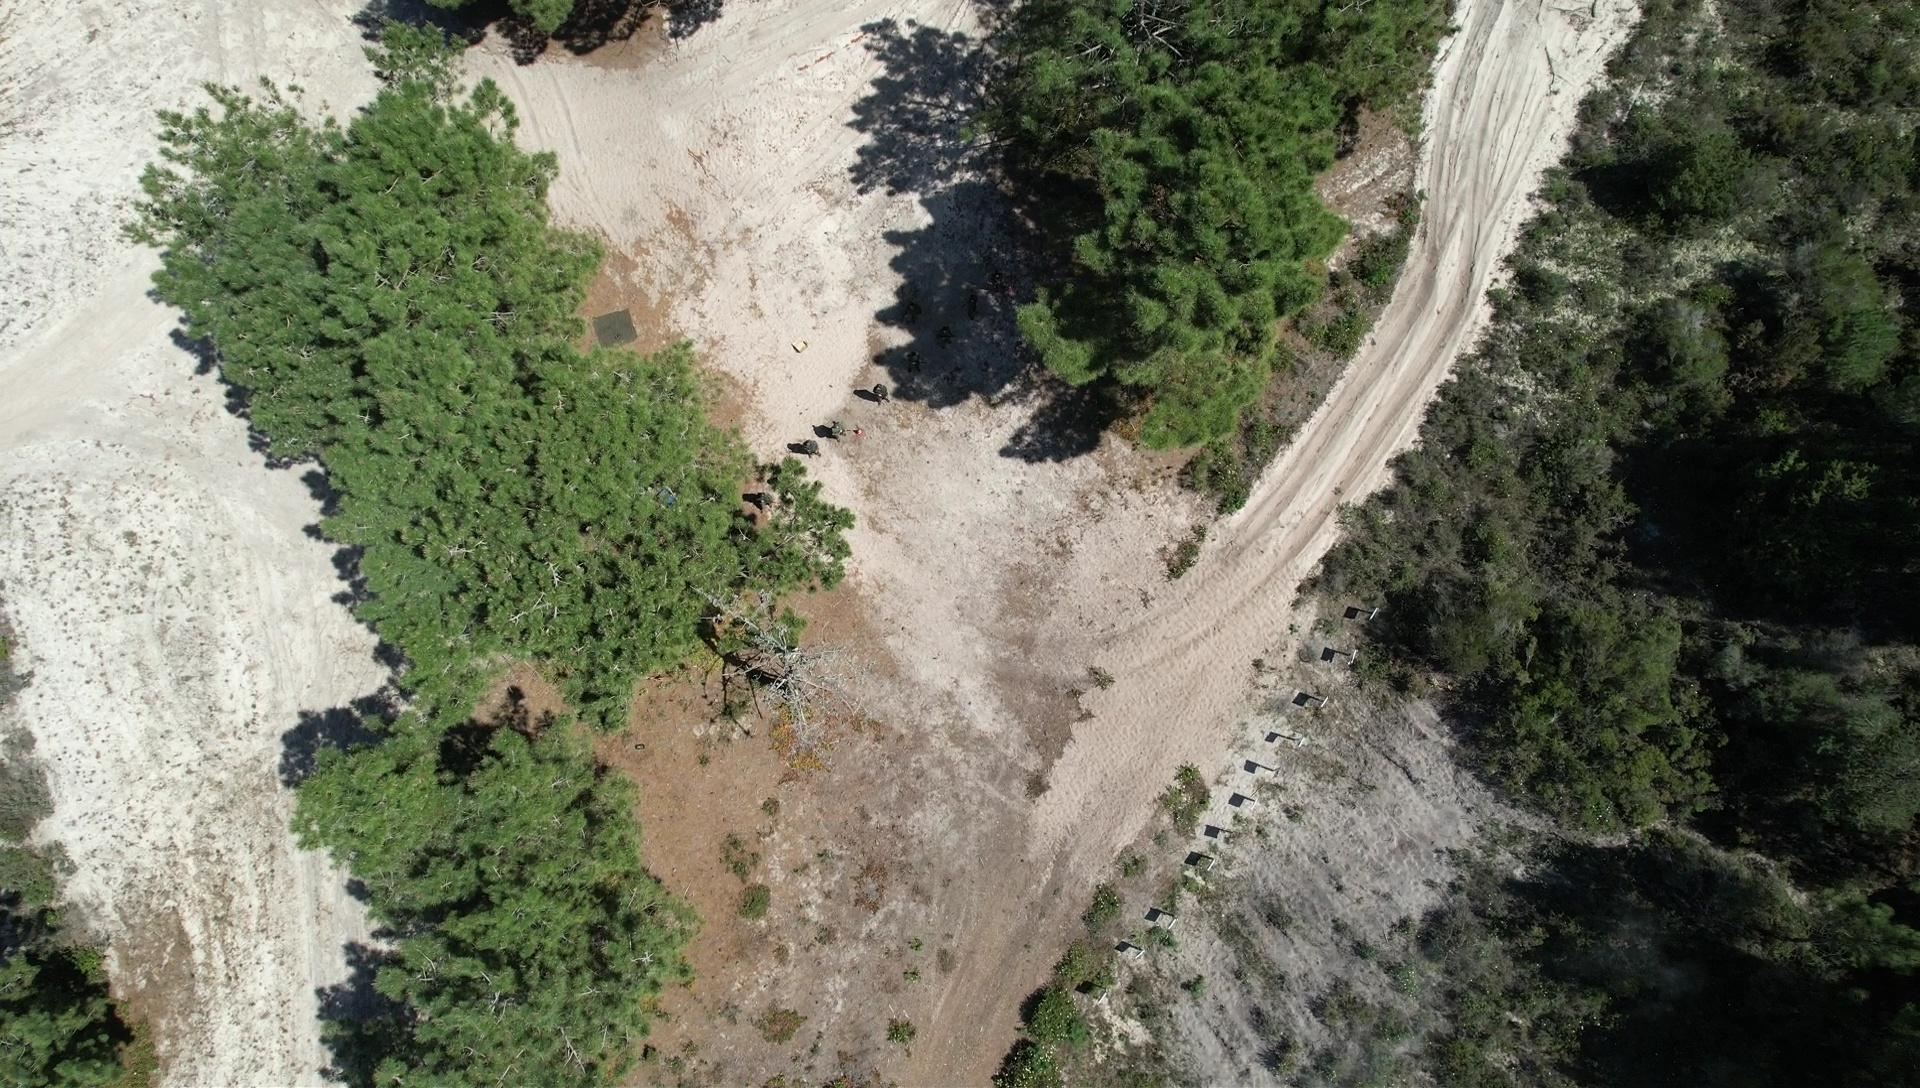Soldier: (963, 290, 986, 319), (899, 346, 926, 371), (799, 437, 823, 464), (932, 320, 955, 349), (827, 414, 847, 442), (869, 380, 887, 408), (753, 491, 778, 509), (903, 299, 923, 322)
